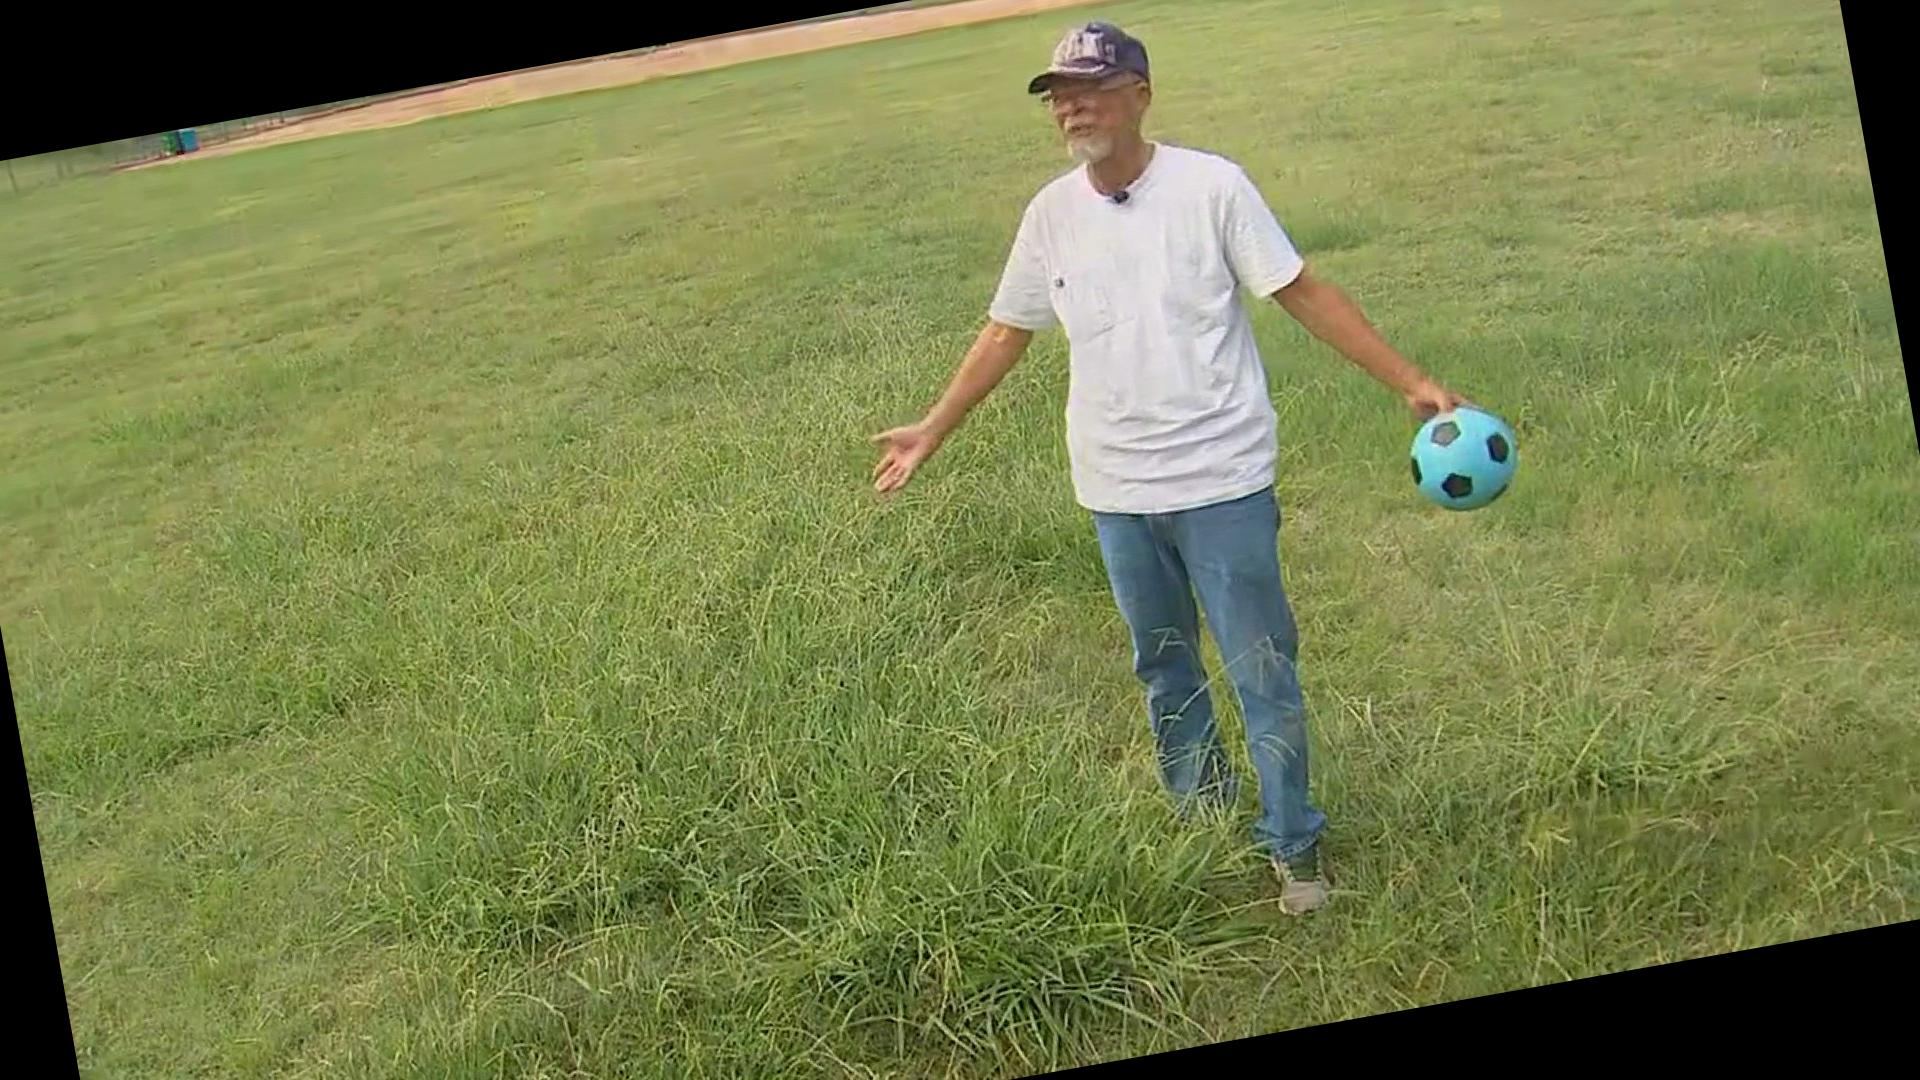overgrown grass: (465, 551, 988, 961), (389, 344, 909, 629), (786, 779, 1229, 1073), (1364, 688, 1758, 1009), (58, 576, 351, 818), (421, 923, 829, 1080), (920, 393, 1095, 657), (1753, 357, 1917, 530), (1572, 299, 1739, 425), (1636, 233, 1825, 338), (47, 382, 215, 462), (1663, 166, 1797, 223), (1255, 200, 1366, 260), (1747, 73, 1858, 121)
